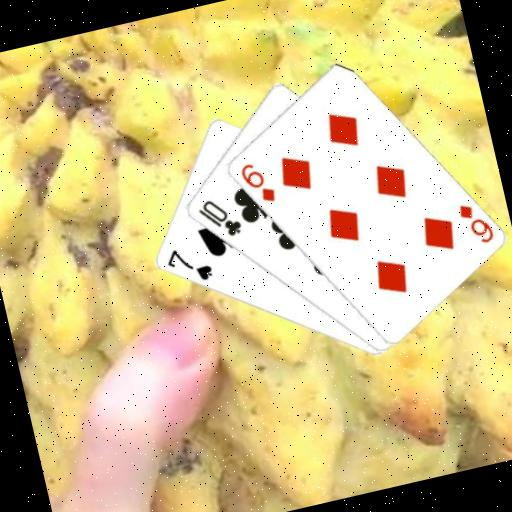10C: (193, 191, 246, 245)
6D: (236, 156, 279, 210), (454, 196, 497, 250)
7S: (160, 239, 215, 290)
